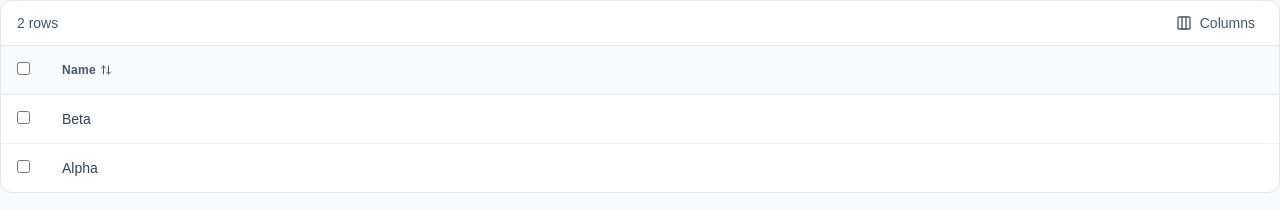
Scenario: DataTable › renders rows and supports sorting
This screenshot has width=1280, height=210.
Check: the text "Beta" is shown, box [46,94,1279,144]
Click the button "Name": (87, 70) [62,62,112,78]
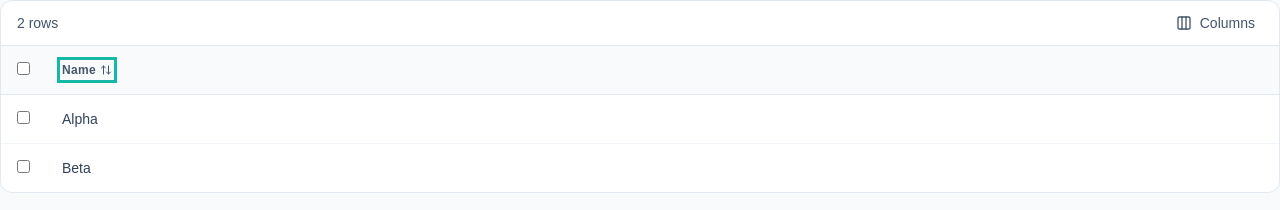
Check: the cell "Alpha" is shown, box [46,94,1279,144]
Click the checkbox named "Select row 1": (24, 118) [17,111,30,124]
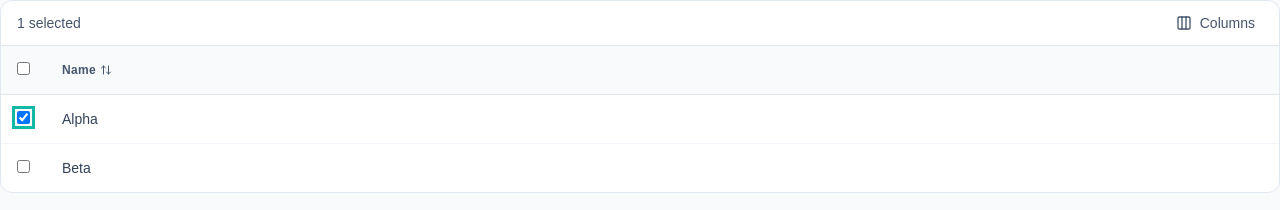
Check: the text "1 selected" is shown, box [17,13,81,33]
